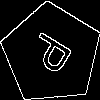P: (26, 29, 82, 81)
